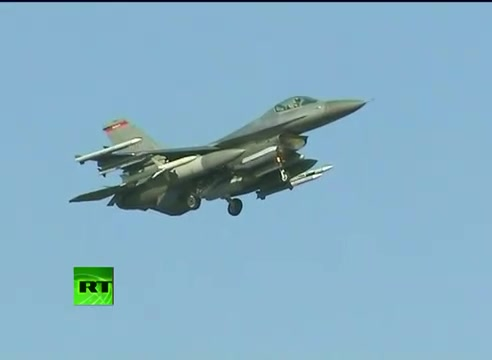aeroplane: (69, 95, 377, 218)
